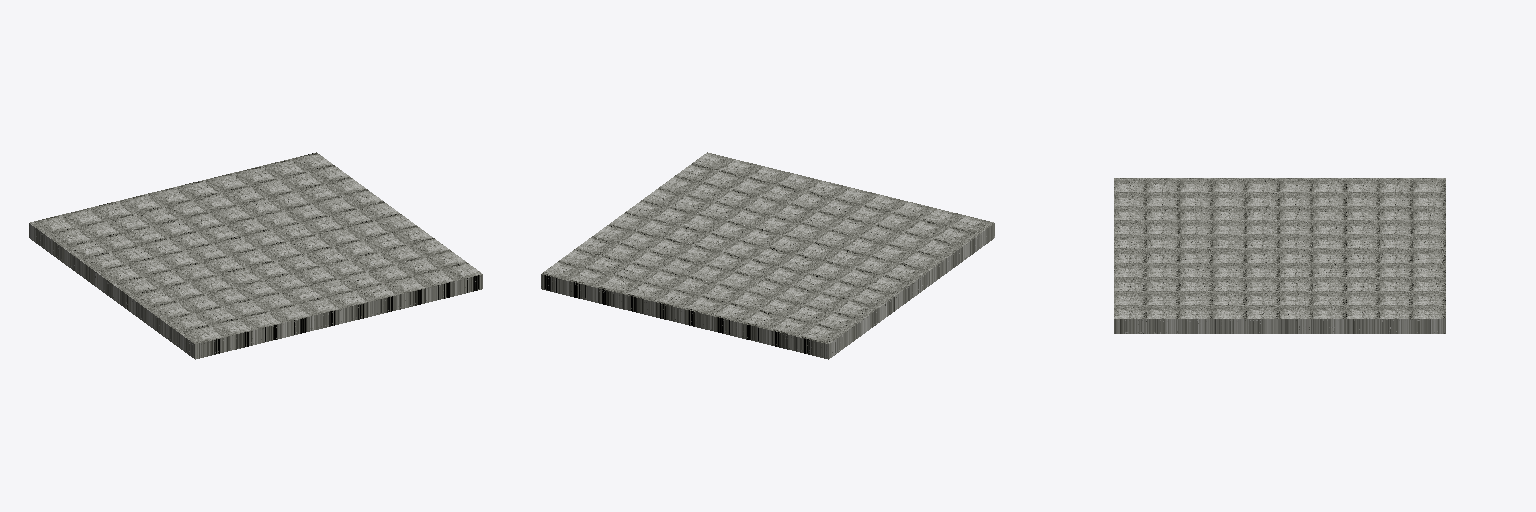
3 views of the same model, side by side, from view 1: azimuth 30°, elevation 25°; view 2: azimuth 150°, elevation 25°; view 3: azimuth 270°, elevation 25° (orthographic).
Visible parts, largest first — view 1: Box001; view 2: Box001; view 3: Box001.
Boxes of the visible parts, x1,y1,x2,y2 form: Box001: [29, 152, 482, 359]; Box001: [541, 152, 994, 359]; Box001: [1114, 178, 1445, 333].
Size of the model in its own units: 10 by 0.5 by 10.
Materials: 1 (1 with a texture image).